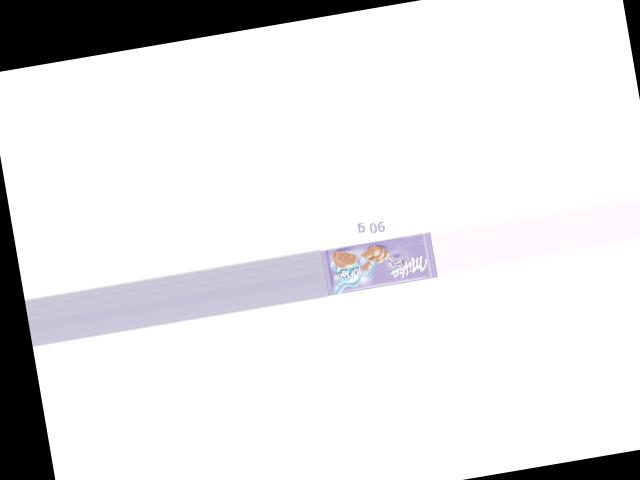chocolate: (319, 232, 435, 296)
